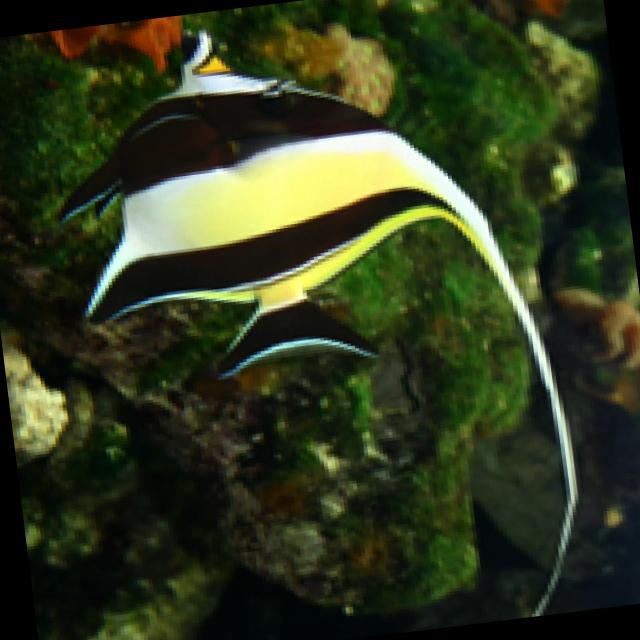MorishIdol: (31, 0, 601, 640)
